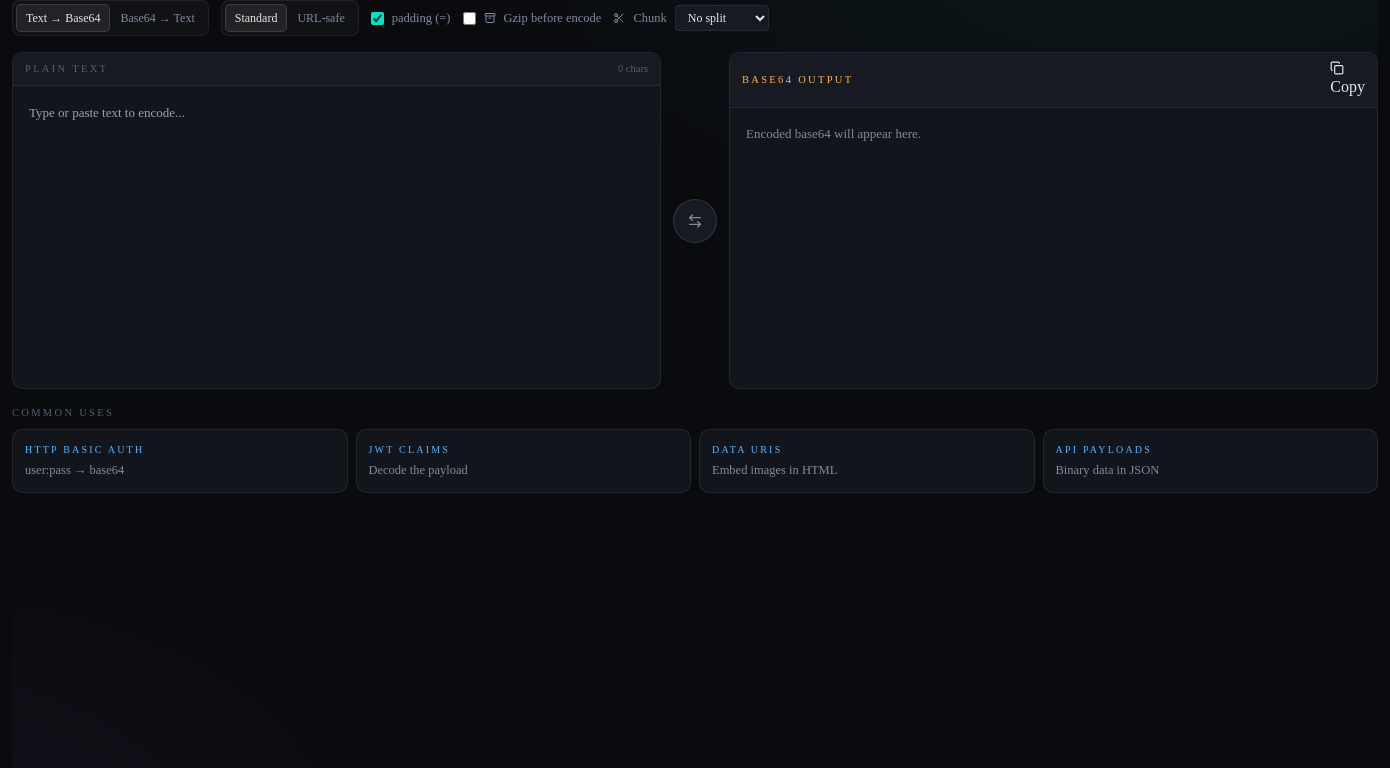
it: TextTab switches › names the output copy buttons by what they copy
The width and height of the screenshot is (1390, 768).
Type "Hello world" into the text box labelled "text to encode" at (336, 237), box [13, 86, 660, 388]
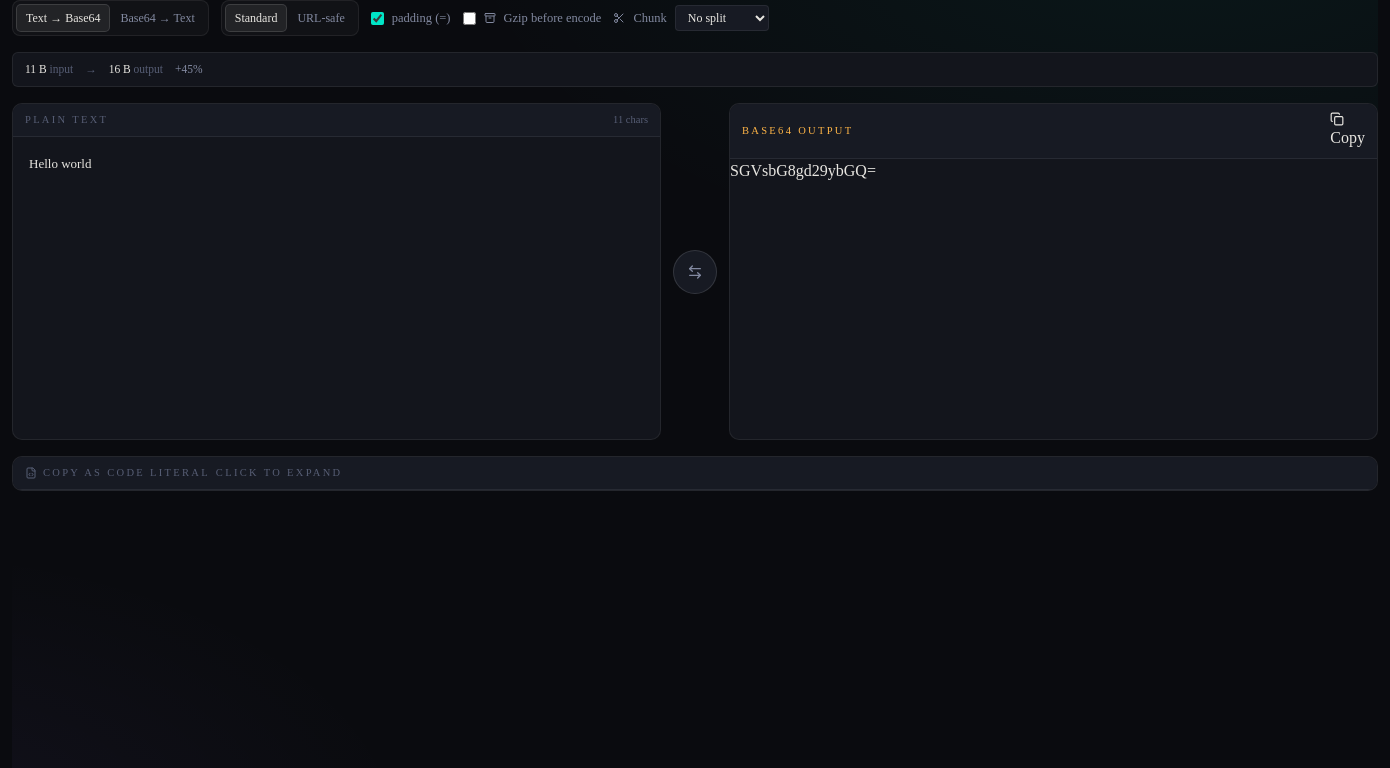
Expected: the button with aria-label "Copy Base64 output" is shown, [1330, 112, 1365, 150]
Result: the text "SGVsbG8gd29ybGQ=" is shown at [730, 162, 876, 179]
Click the button "Copy as code literal click to expand" at (126, 473), box [13, 457, 1377, 490]
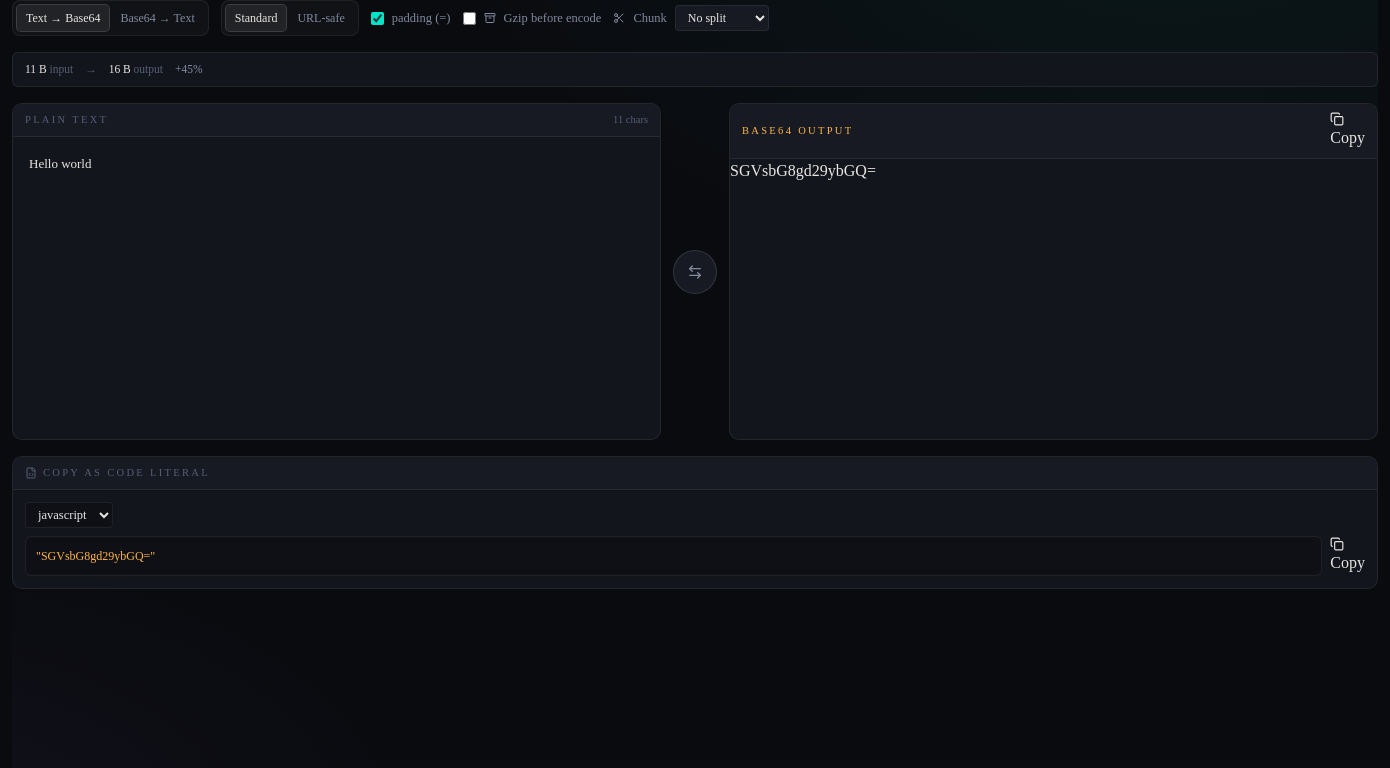
Result: the button with aria-label "Copy javascript code literal" is shown at [1330, 537, 1365, 575]
